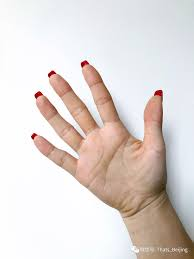palm: (22, 56, 176, 215)
